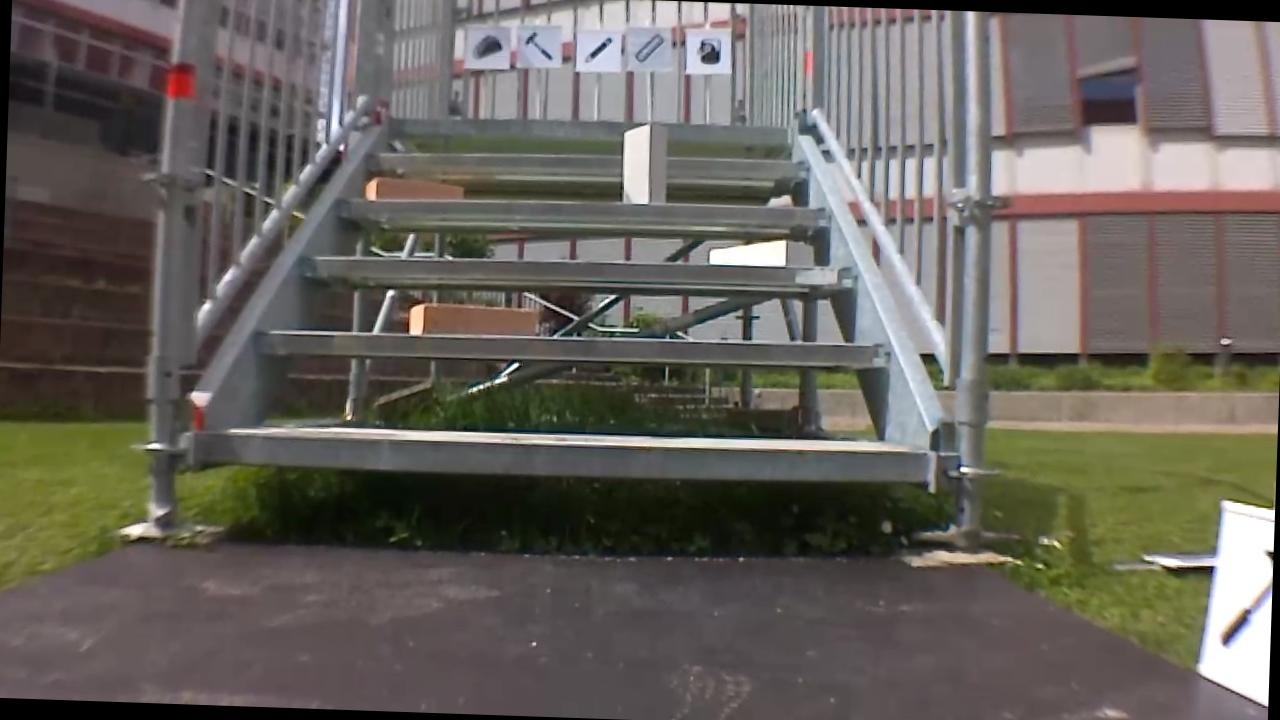brick: (407, 302, 535, 338), (621, 124, 667, 203), (711, 237, 813, 266), (366, 175, 462, 201)
bucket: (691, 31, 723, 67)
edge: (199, 423, 930, 488), (257, 322, 886, 369), (298, 249, 853, 288), (336, 190, 829, 228), (365, 147, 807, 181), (388, 112, 790, 145)
hammer: (519, 26, 559, 62)
pencil: (579, 31, 616, 64)
ruler: (631, 29, 669, 65)
steps: (191, 99, 952, 492)
taco: (466, 30, 506, 63)
